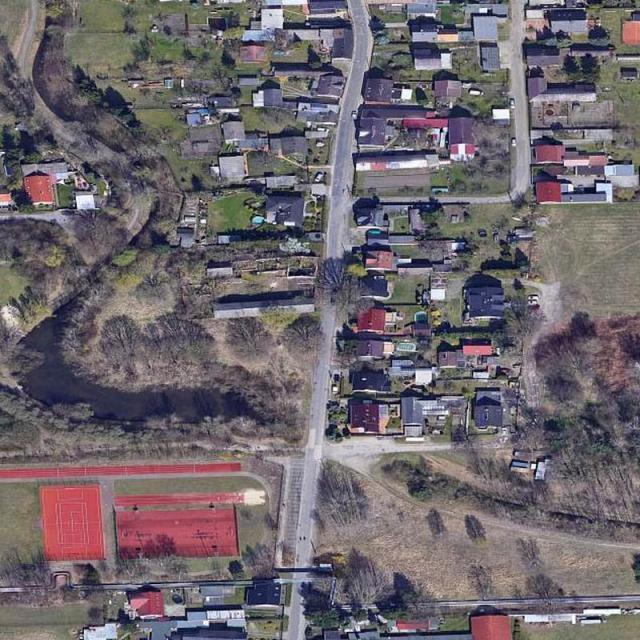vehicle: (314, 172, 323, 183), (468, 88, 484, 94), (528, 295, 539, 301), (317, 128, 329, 133), (509, 97, 514, 108), (510, 137, 516, 146), (351, 111, 357, 119), (528, 302, 539, 306)
